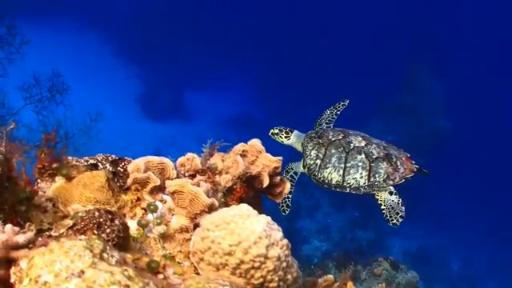Fish: (269, 100, 426, 226)
